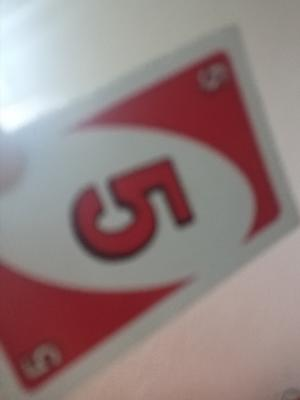num_5: (62, 154, 202, 271), (14, 331, 70, 394)
